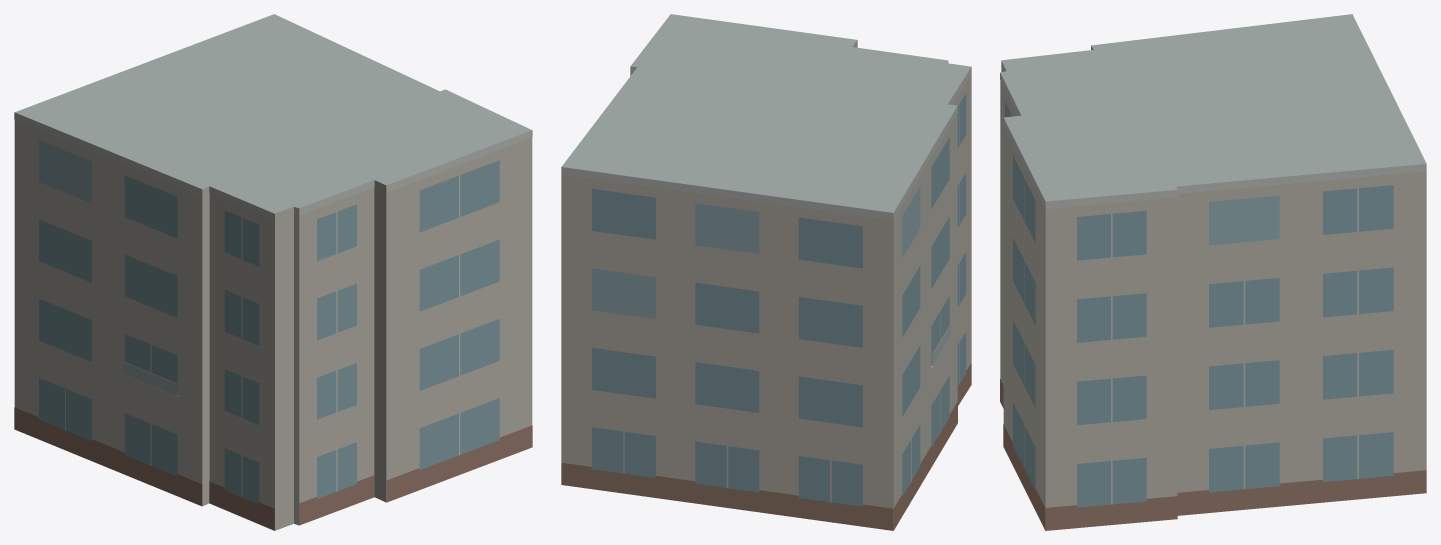
The model's file is survey-upis-32859688.glb.
3 views of the same model, side by side, from view 1: azimuth 30°, elevation 25°; view 2: azimuth 150°, elevation 25°; view 3: azimuth 270°, elevation 25° (orthographic). The views are drawn at different scales.
Visible parts, largest first — view 1: survey-upis-32859688.tmp; view 2: survey-upis-32859688.tmp; view 3: survey-upis-32859688.tmp.
Part boxes in pixels (x1,y1,x2,y2): survey-upis-32859688.tmp: (14,14,532,530); survey-upis-32859688.tmp: (561,14,971,530); survey-upis-32859688.tmp: (1000,14,1426,530).
Size of the model in its own units: 13.02 by 10.65 by 12.51.
